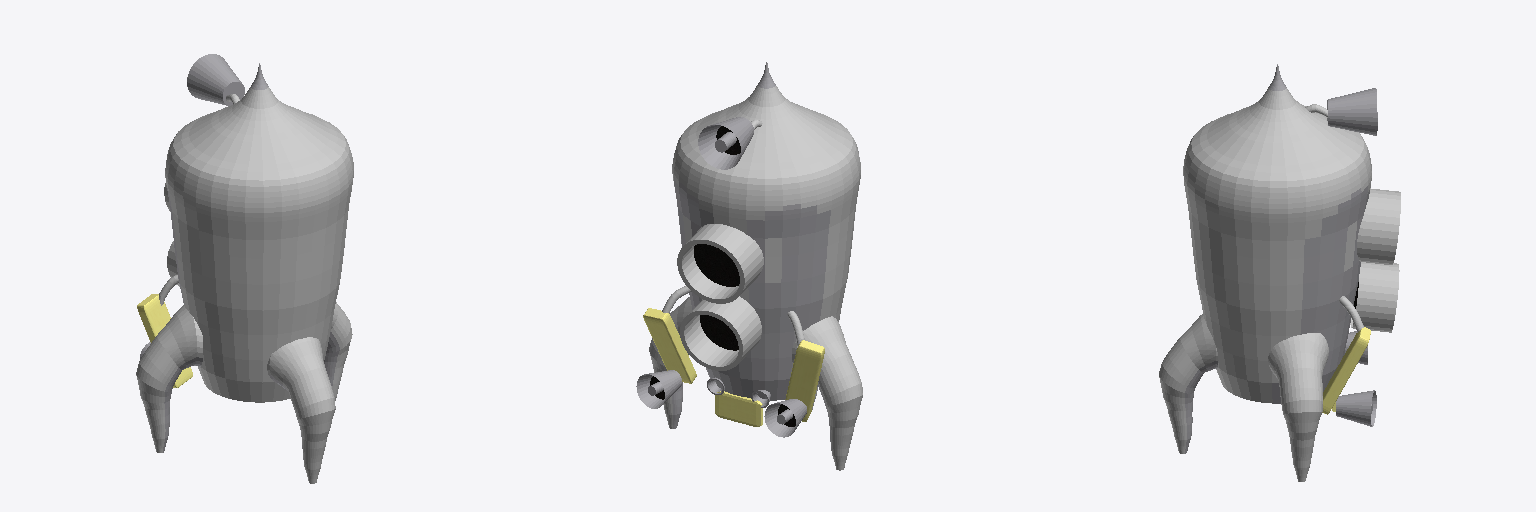
The picture shows the model from 3 angles: view 1: azimuth 30°, elevation 25°; view 2: azimuth 150°, elevation 25°; view 3: azimuth 270°, elevation 25°; orthographic projection.
Visible parts, largest first — view 1: 円柱, 円柱.003_円柱.021, 円柱.001_円柱.002, 円柱.004_円柱.005, 円柱.002_円柱.020, 立方体.001_立方体.002; view 2: 円柱, 円柱.001_円柱.002, 円柱.005_円柱.006, 円柱.006_円柱.007, 円柱.004_円柱.005, 立方体_立方体.001, 立方体.001_立方体.002, 円柱.017_円柱.018, 立方体.002_立方体.003, 円柱.002_円柱.020, 円柱.007_円柱.008, 円柱.008_円柱.009 (+1 smaller); view 3: 円柱, 円柱.002_円柱.020, 円柱.003_円柱.021, 円柱.005_円柱.006, 円柱.006_円柱.007, 円柱.004_円柱.005, 立方体_立方体.001, 円柱.007_円柱.008.
Boxes of the visible parts, x1,y1,x2,y2 form: 円柱: [165, 63, 353, 402]; 円柱.003_円柱.021: [267, 337, 335, 483]; 円柱.001_円柱.002: [136, 305, 202, 452]; 円柱.004_円柱.005: [187, 54, 244, 105]; 円柱.002_円柱.020: [324, 302, 352, 400]; 立方体.001_立方体.002: [137, 294, 192, 387]; 円柱: [672, 62, 860, 400]; 円柱.001_円柱.002: [792, 316, 862, 470]; 円柱.005_円柱.006: [677, 224, 763, 303]; 円柱.006_円柱.007: [680, 296, 761, 370]; 円柱.004_円柱.005: [698, 117, 753, 169]; 立方体_立方体.001: [643, 308, 696, 383]; 立方体.001_立方体.002: [785, 340, 824, 421]; 円柱.017_円柱.018: [694, 244, 739, 286]; 立方体.002_立方体.003: [715, 391, 762, 426]; 円柱.002_円柱.020: [649, 297, 691, 428]; 円柱.007_円柱.008: [636, 370, 681, 408]; 円柱.008_円柱.009: [764, 399, 806, 437]; 円柱: [1183, 64, 1371, 403]; 円柱.002_円柱.020: [1268, 333, 1328, 481]; 円柱.003_円柱.021: [1159, 314, 1218, 453]; 円柱.005_円柱.006: [1357, 188, 1400, 264]; 円柱.006_円柱.007: [1350, 262, 1399, 332]; 円柱.004_円柱.005: [1327, 88, 1377, 135]; 立方体_立方体.001: [1322, 327, 1370, 414]; 円柱.007_円柱.008: [1336, 390, 1376, 426].
Bounding box in the file's own units: 3.51 × 6.16 × 3.51.
19 materials, 3 textured.